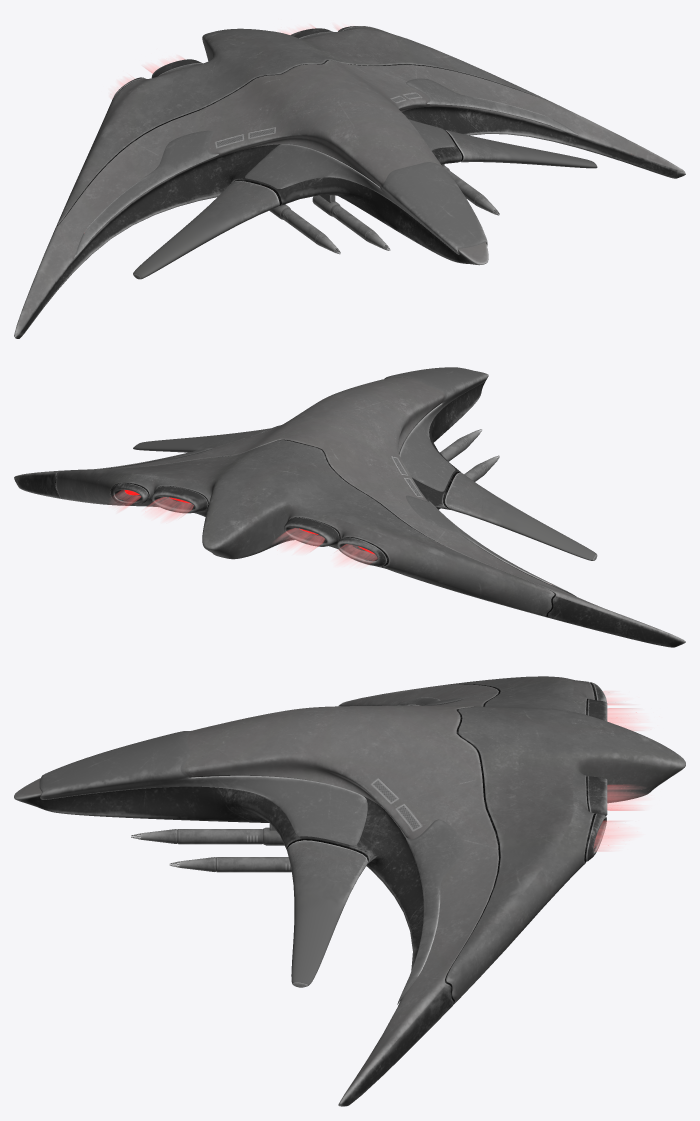
File: spaceship_ezno.glb
3 views of the same model, one above another, from view 1: azimuth 30°, elevation 25°; view 2: azimuth 150°, elevation 25°; view 3: azimuth 270°, elevation 25° (orthographic). The views are drawn at different scales.
Parts seen in each view (by area): view 1: Ship_Body, Armor, Guns; view 2: Ship_Body, Armor, Thruster Energy, Guns; view 3: Ship_Body, Armor, Guns, Thruster Energy.
Part boxes in pixels (bbox=[...]): Ship_Body: bbox=[14, 26, 685, 338]; Armor: bbox=[74, 78, 577, 257]; Guns: bbox=[269, 164, 499, 254]; Ship_Body: bbox=[14, 371, 685, 647]; Armor: bbox=[94, 367, 576, 596]; Thruster Energy: bbox=[113, 490, 377, 565]; Guns: bbox=[438, 429, 499, 509]; Ship_Body: bbox=[14, 676, 685, 1106]; Armor: bbox=[39, 697, 464, 1004]; Guns: bbox=[131, 823, 291, 872]; Thruster Energy: bbox=[594, 691, 645, 851].
Bounding box in the file's own units: 24.37 × 5.59 × 17.34.
Materials: 2 (2 with a texture image).
